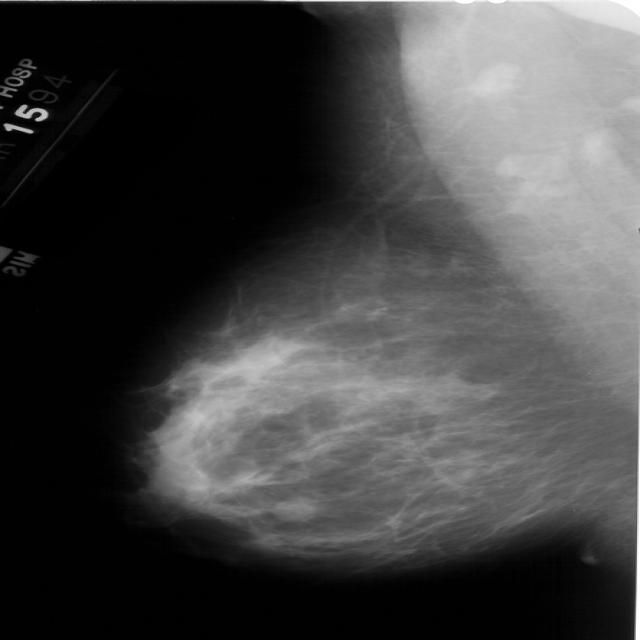tumour: (270, 494, 317, 520)
